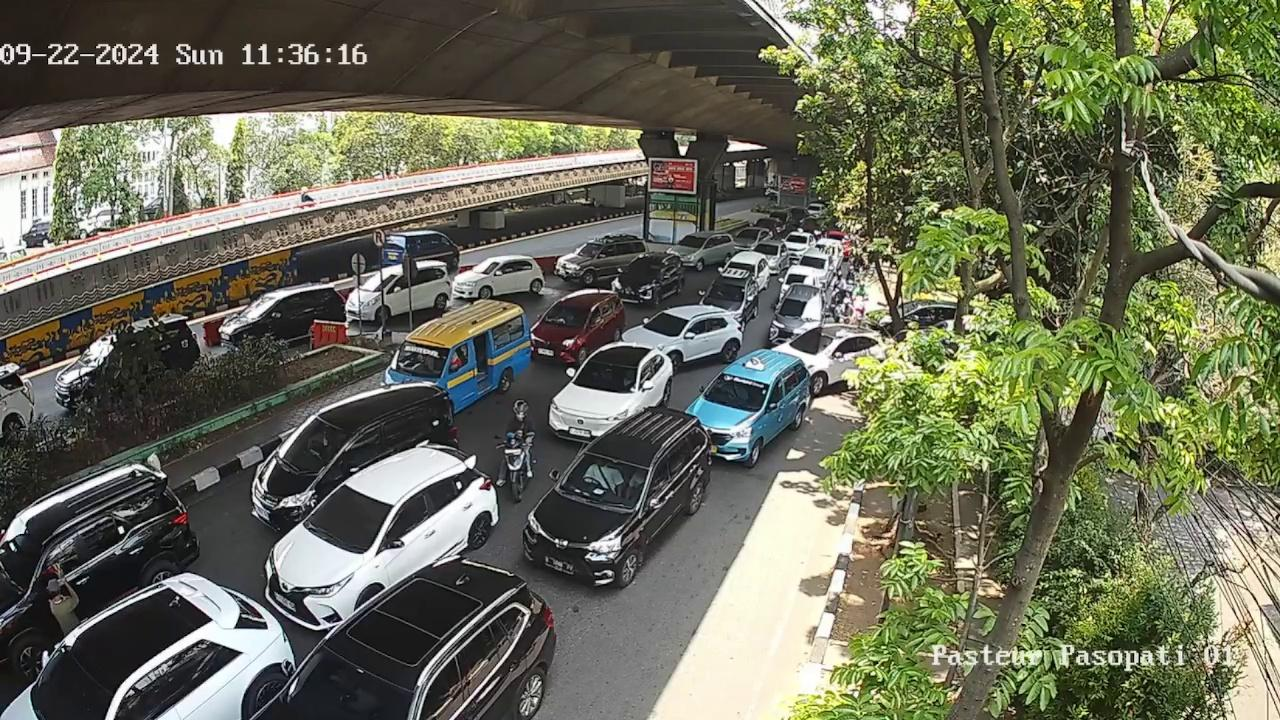pakai: (587, 461, 617, 492), (724, 382, 752, 403), (590, 367, 614, 383)
tidak-pakai: (415, 352, 434, 369)
windshield: (282, 654, 418, 720), (559, 449, 650, 508), (305, 485, 396, 542), (282, 416, 347, 471), (387, 340, 452, 379), (571, 358, 640, 394), (702, 373, 770, 409), (543, 305, 589, 327), (779, 298, 822, 320), (645, 313, 687, 334), (793, 331, 831, 354), (624, 259, 663, 279), (706, 283, 746, 302), (679, 235, 706, 250)
